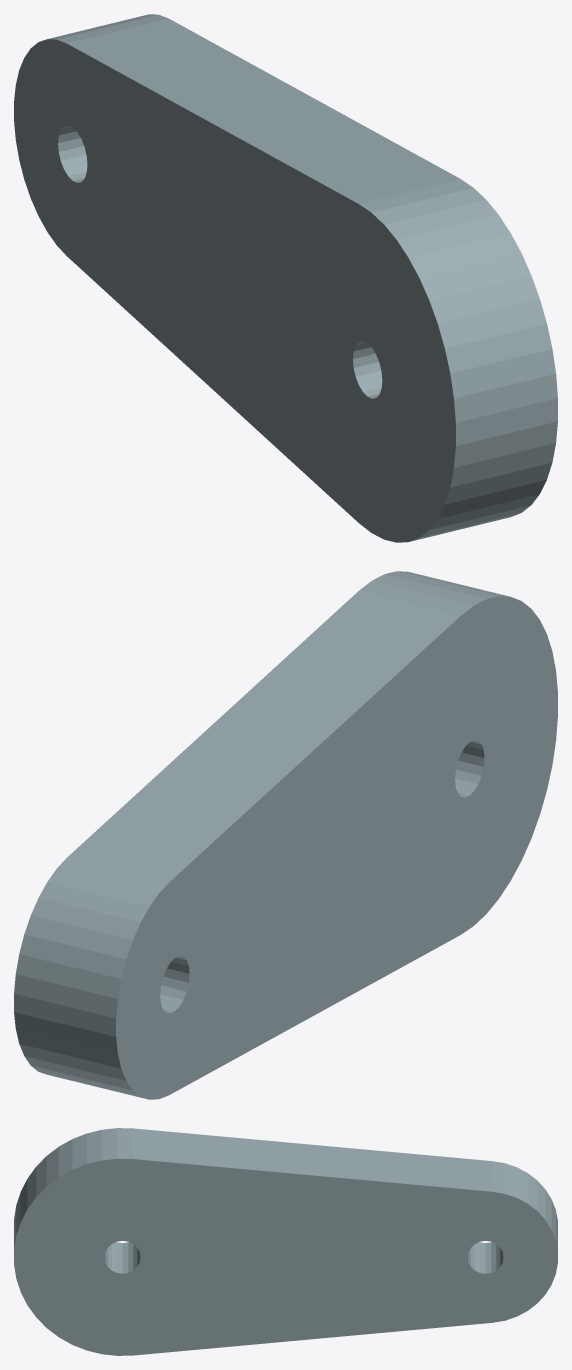
File: Bein - Ledd 1 v2.obj
The picture shows the model from 3 angles, top to bottom: view 1: azimuth 30°, elevation 25°; view 2: azimuth 150°, elevation 25°; view 3: azimuth 270°, elevation 25°; orthographic projection. The views are drawn at different scales.
Visible parts, largest first — view 1: Bein___Ledd_1_v2; view 2: Bein___Ledd_1_v2; view 3: Bein___Ledd_1_v2.
Boxes of the visible parts, left/top/right/bottom form: Bein___Ledd_1_v2: left=14, top=14, right=557, bottom=542; Bein___Ledd_1_v2: left=14, top=571, right=557, bottom=1099; Bein___Ledd_1_v2: left=14, top=1128, right=557, bottom=1355.
Bounding box in the file's own units: 20 × 59.94 × 150.
